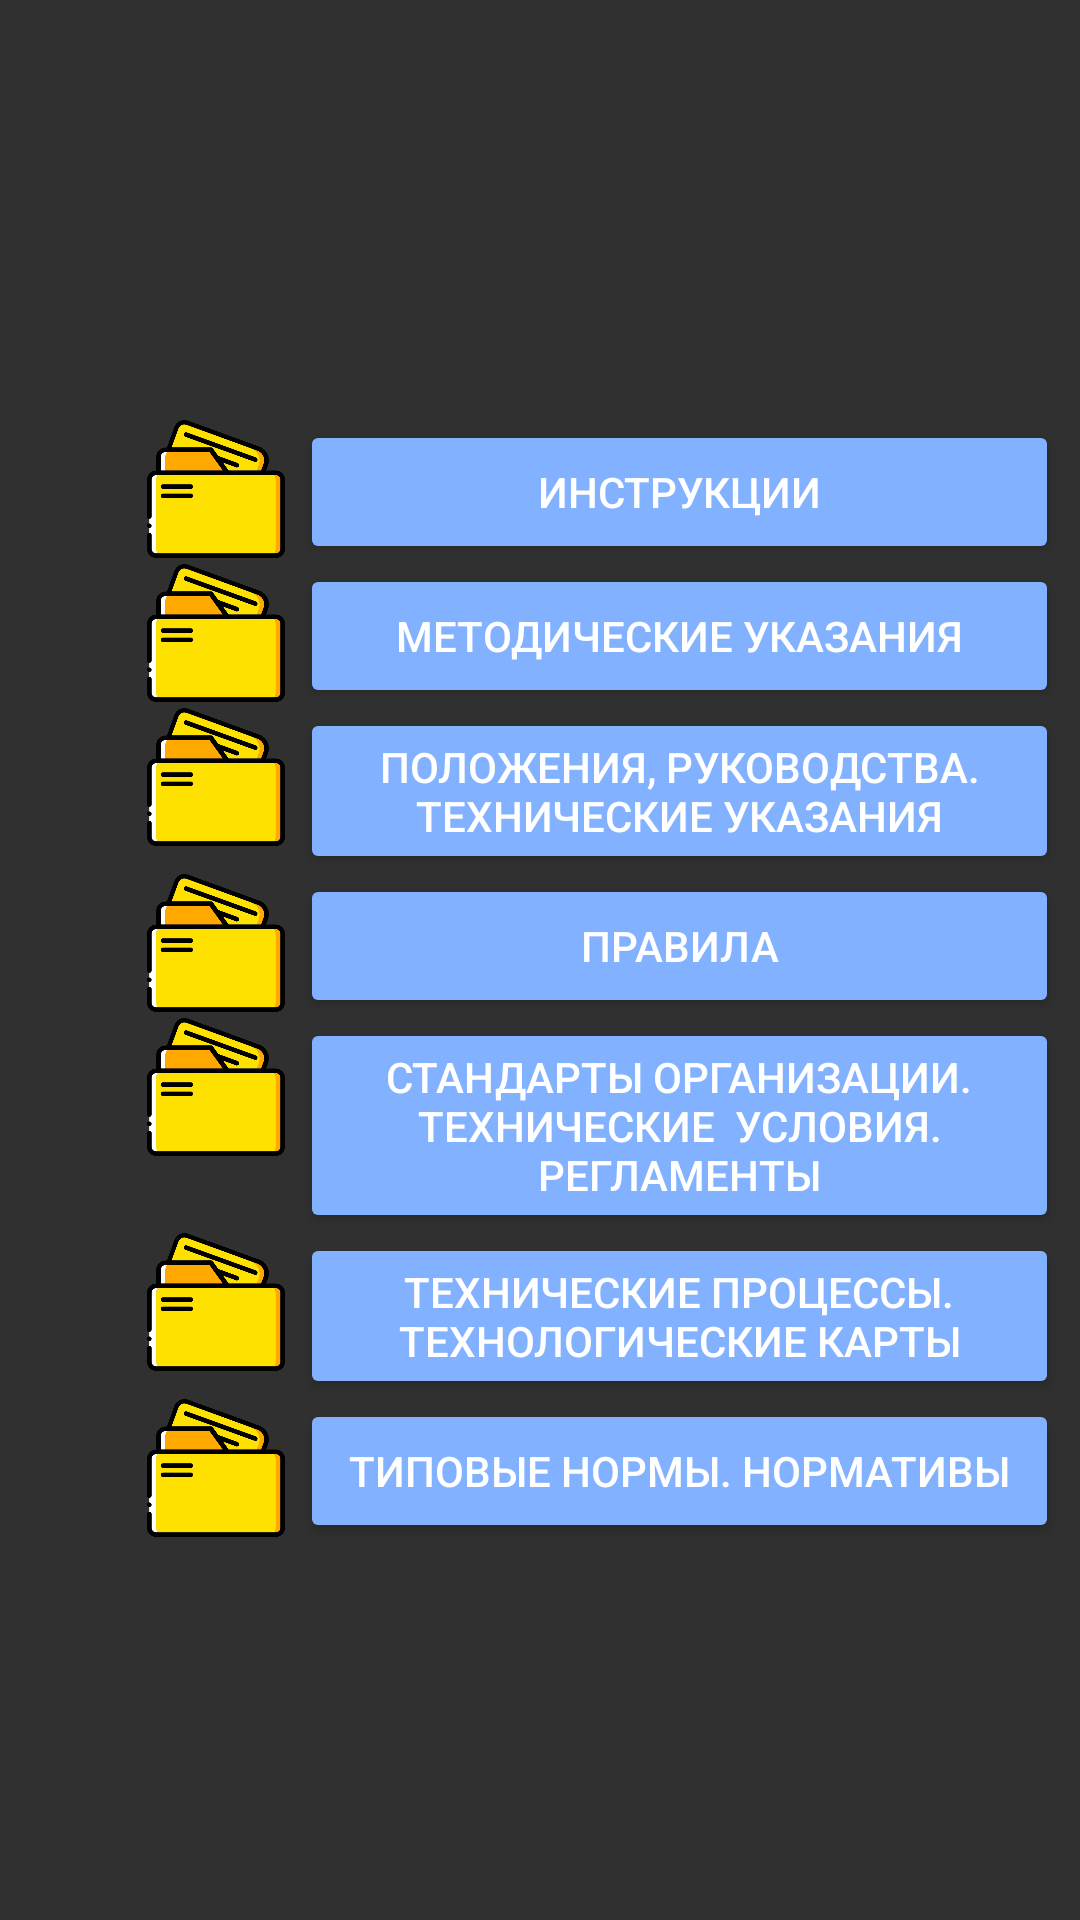

Named icons in this screenshot (1080px x 1920px) and their centers, point (x, y):
files: point (216, 489), point (216, 633), point (216, 777), point (216, 943), point (216, 1087), point (216, 1302), point (216, 1468)
